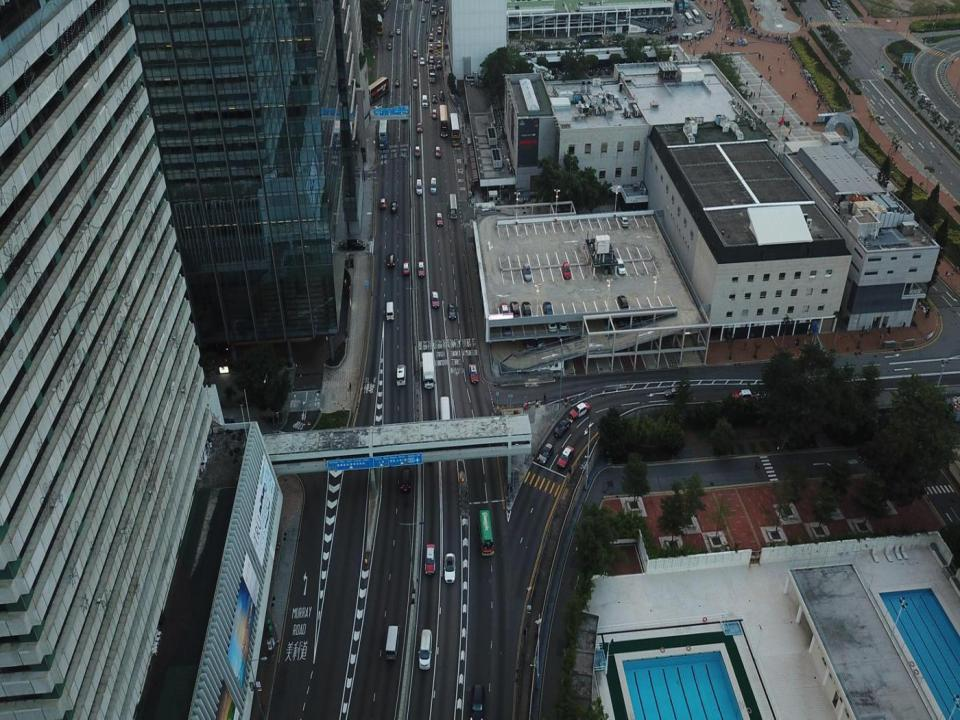bus: (364, 77, 390, 105), (478, 510, 494, 555), (439, 396, 450, 432), (378, 115, 389, 148), (576, 31, 603, 44), (450, 112, 460, 146), (439, 104, 448, 137), (374, 12, 384, 35), (450, 194, 458, 218), (379, 0, 391, 11), (692, 9, 700, 23), (684, 12, 692, 25), (827, 0, 837, 10), (683, 0, 688, 8)
car: (470, 684, 485, 719), (558, 445, 575, 468), (537, 442, 554, 465), (424, 542, 436, 574), (569, 402, 591, 419), (444, 553, 455, 583), (554, 418, 571, 437), (664, 386, 687, 399), (400, 468, 412, 492), (732, 389, 756, 400), (396, 364, 406, 386), (218, 420, 235, 430), (510, 301, 520, 318), (469, 364, 478, 382), (562, 262, 571, 280), (524, 263, 532, 282), (615, 259, 625, 274), (448, 302, 456, 320), (432, 290, 440, 308), (543, 302, 553, 316), (522, 302, 531, 317), (500, 302, 509, 317), (617, 296, 628, 308), (619, 216, 629, 229), (387, 252, 395, 267), (548, 319, 557, 332), (402, 260, 409, 275), (379, 197, 387, 210), (503, 323, 511, 336), (559, 317, 567, 330), (418, 261, 424, 277), (524, 340, 532, 352), (391, 201, 398, 213), (608, 40, 620, 47), (639, 316, 647, 326), (551, 44, 563, 50), (876, 115, 884, 124), (401, 112, 408, 122), (538, 339, 545, 349), (608, 29, 616, 36), (630, 317, 636, 326), (565, 43, 575, 48), (647, 28, 654, 35), (412, 78, 418, 86), (432, 109, 437, 118), (653, 28, 660, 34), (706, 11, 712, 18), (432, 95, 437, 103), (550, 28, 555, 36), (706, 27, 711, 35), (835, 11, 841, 17), (429, 56, 434, 63), (420, 57, 424, 65), (413, 50, 417, 58), (437, 60, 441, 68), (429, 43, 433, 51), (750, 329, 754, 337), (558, 69, 564, 74), (562, 71, 568, 76), (389, 30, 393, 37), (437, 40, 441, 47), (429, 33, 433, 40), (595, 1, 600, 6), (396, 28, 400, 34), (438, 25, 441, 33), (440, 6, 443, 14), (589, 2, 595, 6), (388, 42, 391, 49), (421, 15, 424, 22), (837, 1, 841, 6), (515, 6, 519, 10), (601, 0, 604, 5), (657, 10, 660, 14), (661, 10, 663, 14)
truck: (421, 352, 435, 389), (429, 64, 436, 82), (675, 0, 683, 12), (753, 0, 761, 10), (431, 4, 437, 15)
van: (418, 628, 432, 670), (386, 625, 400, 661), (347, 238, 365, 251), (386, 300, 394, 320), (429, 177, 437, 193), (416, 178, 422, 195), (537, 42, 549, 49), (666, 35, 678, 41), (695, 30, 704, 38), (681, 33, 692, 39), (422, 95, 427, 108), (439, 90, 444, 100), (637, 8, 641, 15), (642, 9, 646, 16), (579, 2, 583, 7)
